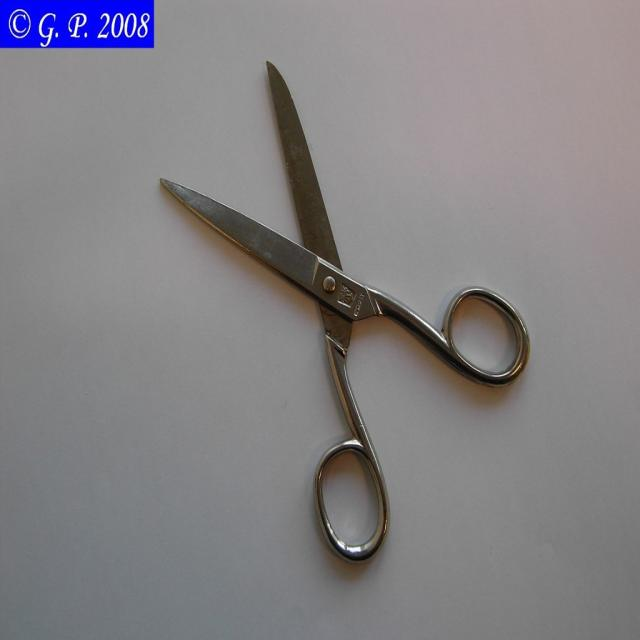scissors: (158, 59, 530, 563)
